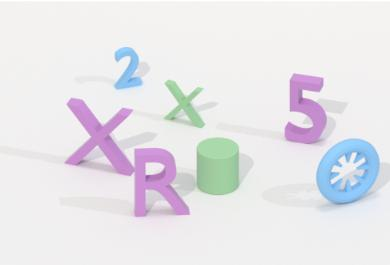0-KhoiTru: (193, 134, 243, 198)
0-TronLo: (313, 136, 384, 210)
2: (110, 44, 146, 92)
5: (282, 67, 329, 146)
R: (133, 146, 194, 219)
X: (65, 94, 134, 177), (162, 77, 208, 131)
